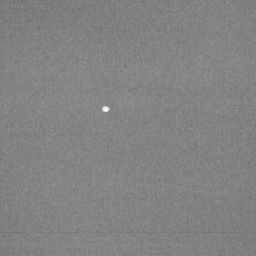Target: (100, 104, 111, 113)
